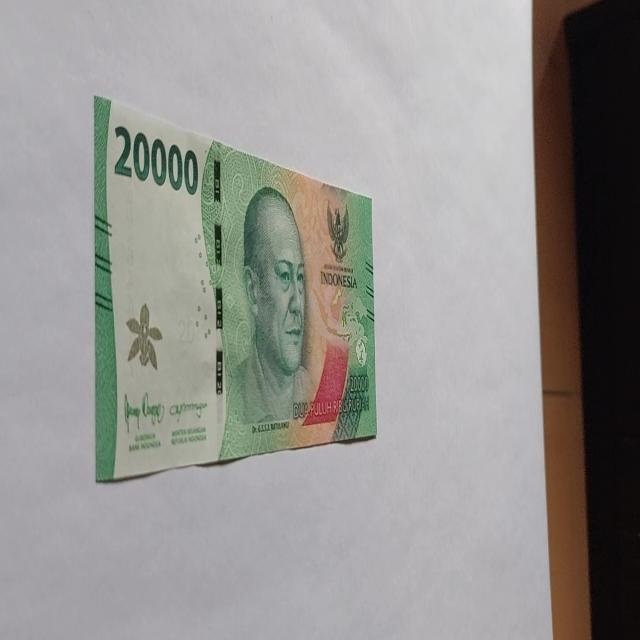dua puluh ribu rupiah: (92, 93, 378, 483), (218, 183, 321, 460)
